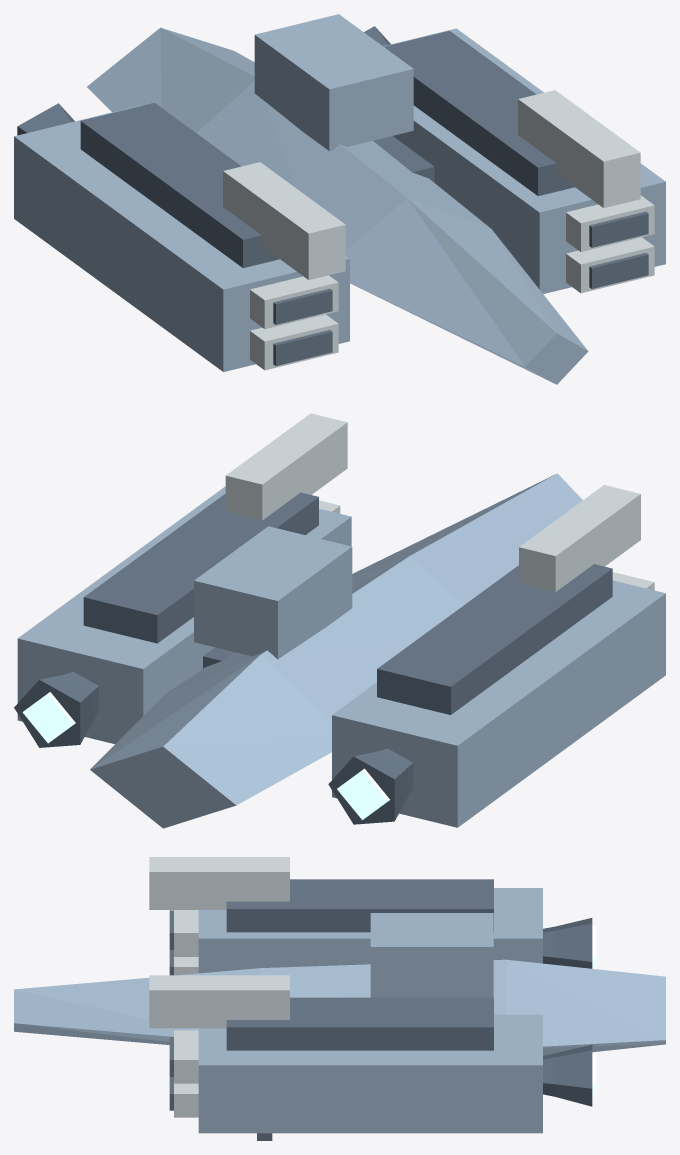
3 renders of one model, top to bottom at view 1: azimuth 30°, elevation 25°; view 2: azimuth 150°, elevation 25°; view 3: azimuth 270°, elevation 25°, orthographic. The views are drawn at different scales.
Bounding box in the file's own units: 11.94 × 4.81 × 18.54.
